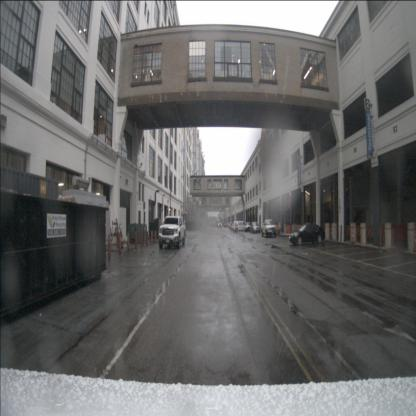barrier: (284, 225, 292, 233)
cone: (378, 223, 383, 247), (350, 223, 354, 244), (330, 221, 333, 240)
